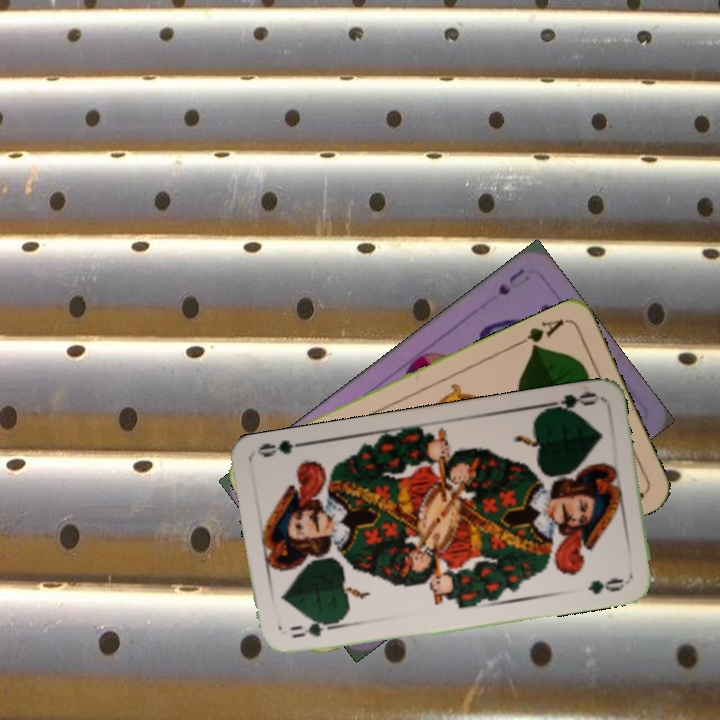GA: (513, 315, 566, 353)
GO: (540, 387, 600, 416), (285, 615, 342, 641)
SU: (493, 264, 527, 298)
